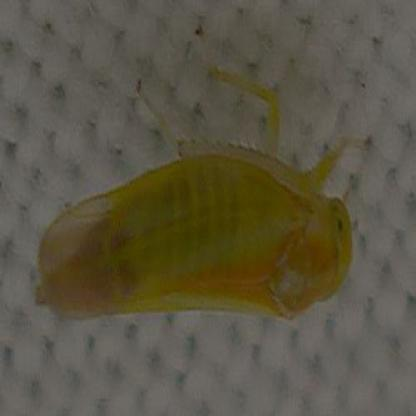green-leafhopper: (38, 135, 350, 328)
